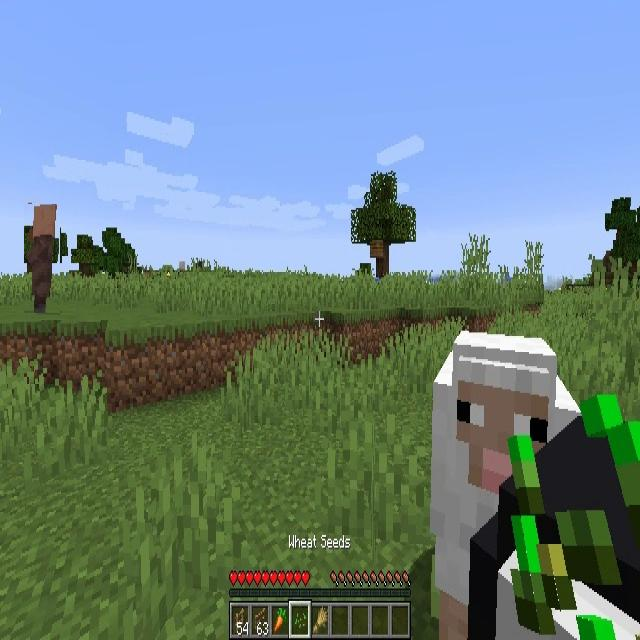people: (24, 204, 60, 315)
sheep: (429, 326, 588, 632), (467, 412, 640, 640)
